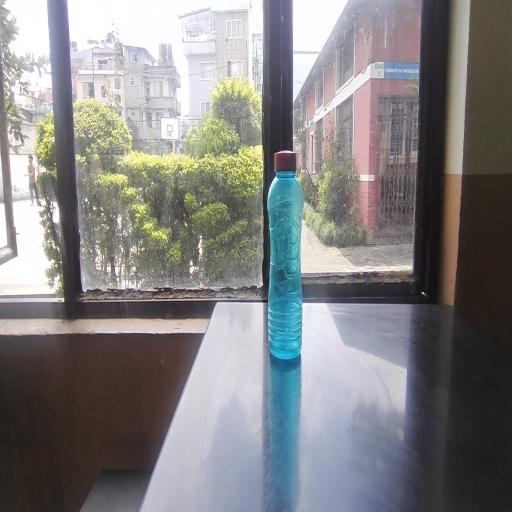Bottle: (267, 142, 316, 393)
